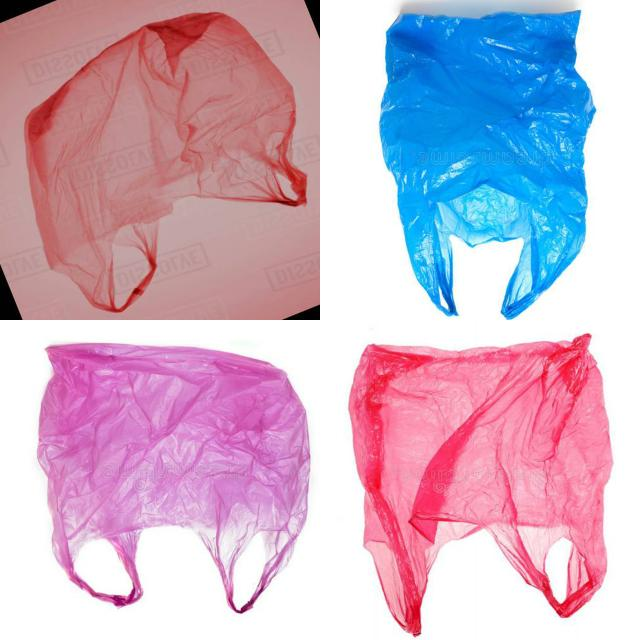Single-layer Plastic: (25, 12, 306, 312), (349, 335, 612, 634), (38, 344, 310, 612), (380, 11, 595, 319)
